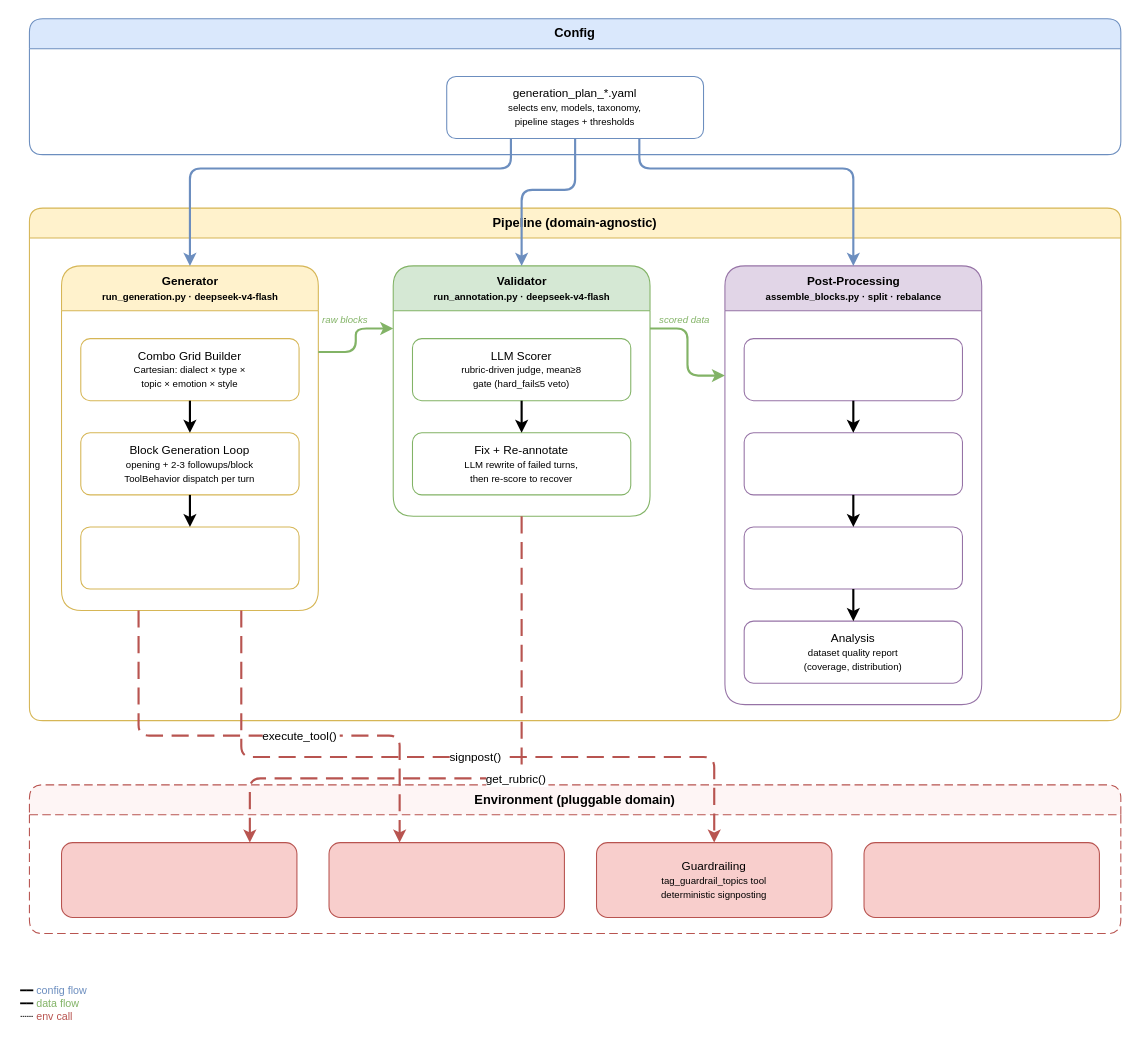
Image size: 1140x1060. Some labels were removed from this diagram. The shapes that lost their labels are listed below. From the top down, each one's centre as x and y in pixels, then its label:
At pixel 852 369: "Assemble Blocks stitch blocks → multi-turn convos with topic pivots".
At pixel 852 463: "Split train / val / eval partition (configurable ratios)".
At pixel 189 557: "Tool Call Correction LLM rewrite of malformed calls (deepseek-v4-flash)".
At pixel 852 557: "Rebalance adjust tool:text ratio and category contamination".
At pixel 178 880: "base.py (Environment ABC) ToolSpec + ToolBehavior enum registry resolves by name".
At pixel 446 880: "ConciergeDBExecutor Postgres visualise_data real DB → chart summary".
At pixel 981 880: "Persona + DB Utils sample persona DBs, reseed Postgres per-persona".
